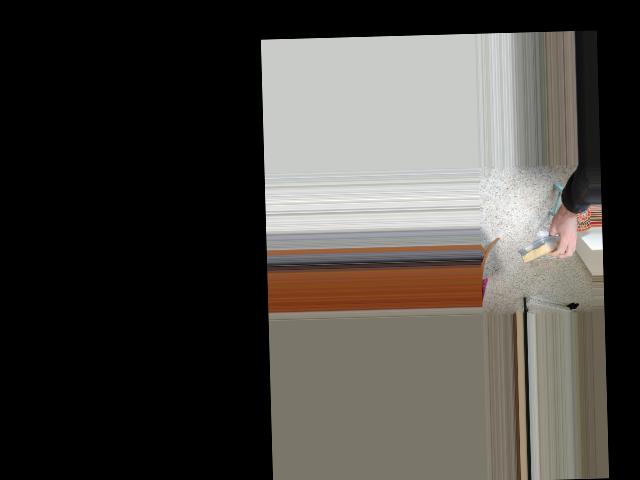cheese: (514, 230, 569, 267)
